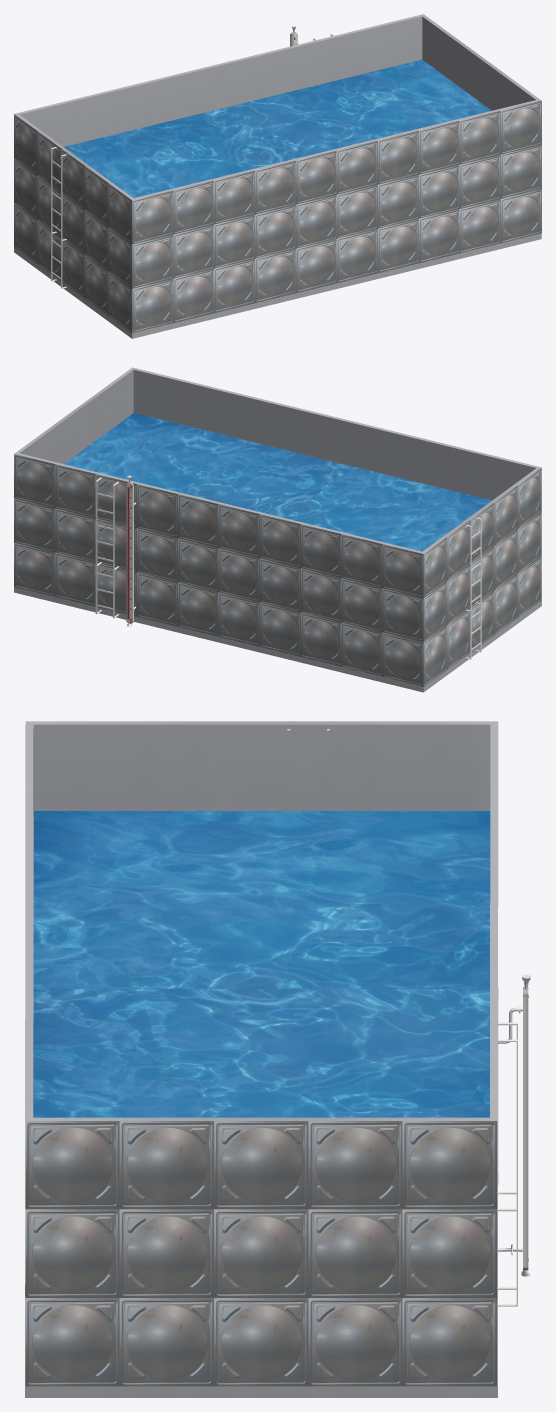
The picture shows the model from 3 angles, top to bottom: view 1: azimuth 30°, elevation 25°; view 2: azimuth 150°, elevation 25°; view 3: azimuth 270°, elevation 25°; orthographic projection. The views are drawn at different scales.
Parts seen in each view (by area): view 1: 水箱-贴片03, 水箱-框架, 水箱-水面位置, 水箱-贴片02, 水箱-爬梯02; view 2: 水箱-贴片04, 水箱-框架, 水箱-水面位置, 水箱-贴片02, 水箱-爬梯01, 水箱-水尺条, 水箱-爬梯02; view 3: 水箱-水面位置, 水箱-贴片01, 水箱-框架, 水箱-水尺条, 水箱-爬梯01.
Boxes of the visible parts, x1=… form: 水箱-贴片03: x1=132, y1=100, x2=541, y2=332; 水箱-框架: x1=14, y1=14, x2=541, y2=338; 水箱-水面位置: x1=64, y1=59, x2=491, y2=197; 水箱-贴片02: x1=14, y1=114, x2=131, y2=332; 水箱-爬梯02: x1=51, y1=146, x2=66, y2=288; 水箱-贴片04: x1=14, y1=454, x2=423, y2=686; 水箱-框架: x1=14, y1=367, x2=541, y2=692; 水箱-水面位置: x1=64, y1=413, x2=491, y2=551; 水箱-贴片02: x1=423, y1=468, x2=541, y2=686; 水箱-爬梯01: x1=95, y1=477, x2=119, y2=618; 水箱-水尺条: x1=126, y1=482, x2=133, y2=623; 水箱-爬梯02: x1=465, y1=517, x2=481, y2=659; 水箱-水面位置: x1=33, y1=811, x2=490, y2=1117; 水箱-贴片01: x1=25, y1=1121, x2=497, y2=1386; 水箱-框架: x1=25, y1=721, x2=498, y2=1397; 水箱-水尺条: x1=523, y1=987, x2=528, y2=1270; 水箱-爬梯01: x1=497, y1=1022, x2=517, y2=1306.
Bounding box in the file's own units: 13.76 × 4.78 × 7.27.
8 materials, 5 textured.
